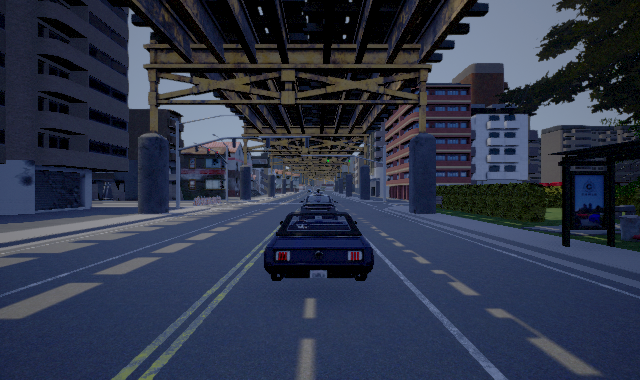traffic_light: (348, 156, 350, 162), (327, 156, 329, 162)
vehicle: (264, 188, 374, 281)
